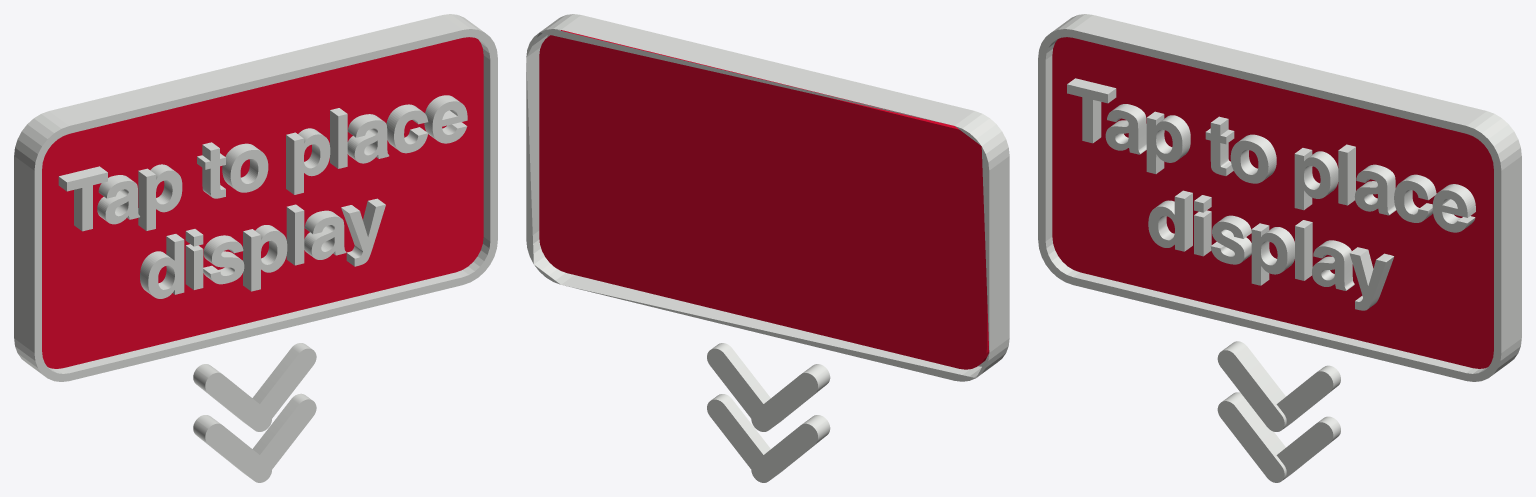
File: ARText-v1 (1).glb
The picture shows the model from 3 angles, left to right: view 1: azimuth 30°, elevation 25°; view 2: azimuth 150°, elevation 25°; view 3: azimuth 330°, elevation 25°; orthographic projection.
Parts seen in each view (by area): view 1: Cube.041, Cube.036, Curve.001, Cube.042; view 2: Cube.041, Cube.036, Cube.042; view 3: Cube.041, Cube.036, Curve.001, Cube.042.
Part boxes in pixels (x1,y1,x2,y2): Cube.041: [42, 37, 483, 368]; Cube.036: [14, 14, 497, 381]; Curve.001: [58, 95, 467, 298]; Cube.042: [193, 343, 316, 482]; Cube.041: [539, 30, 989, 369]; Cube.036: [526, 14, 1009, 381]; Cube.042: [707, 343, 830, 482]; Cube.041: [1052, 37, 1493, 368]; Cube.036: [1038, 14, 1521, 381]; Curve.001: [1067, 78, 1475, 310]; Cube.042: [1217, 341, 1340, 482].
Size of the model in its own units: 0.1754 by 0.1476 by 0.0145.
